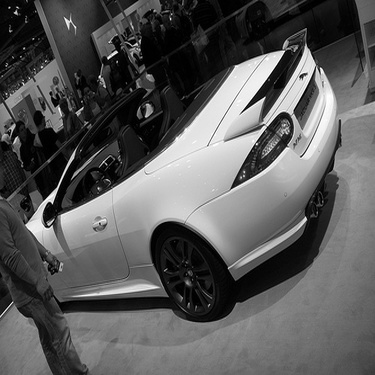car: (1, 25, 342, 328)
